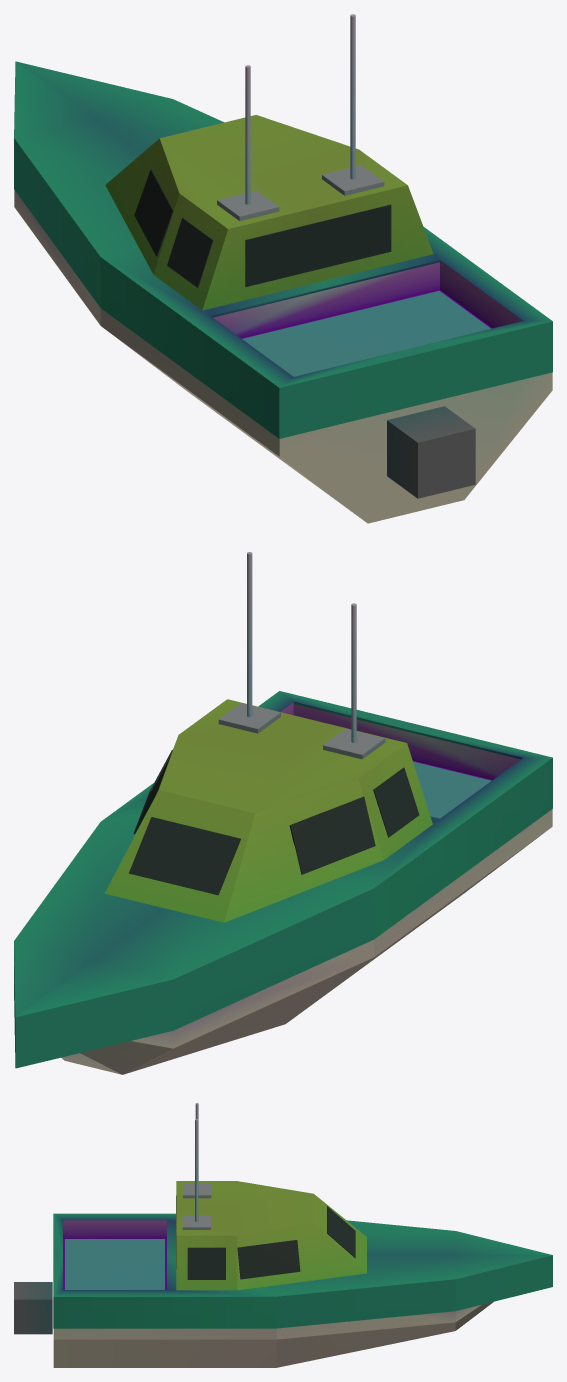
The picture shows the model from 3 angles, top to bottom: view 1: azimuth 30°, elevation 25°; view 2: azimuth 150°, elevation 25°; view 3: azimuth 270°, elevation 25°; orthographic projection. The views are drawn at different scales.
Visible parts, largest first — view 1: hull_panel.001, cabin, hull_panel, well_floor, aft_window, stern_block, side_window.001, forward_window.001, base, base.001, rod.001, rod; view 2: hull_panel.001, cabin, hull_panel, windshield, forward_window.001, well_floor, side_window.001, base, base.001, rod.001, rod; view 3: hull_panel.001, hull_panel, cabin, well_floor, stern_block, forward_window, side_window, windshield, base.001, base, rod.001.
Part boxes in pixels (<box>): hull_panel.001: <box>14,61,552,438</box>; cabin: <box>105,115,433,310</box>; hull_panel: <box>14,190,552,523</box>; well_floor: <box>242,291,490,376</box>; aft_window: <box>245,204,391,286</box>; stern_block: <box>387,406,475,498</box>; side_window.001: <box>167,218,213,287</box>; forward_window.001: <box>134,169,173,256</box>; base: <box>217,190,279,220</box>; base.001: <box>322,165,384,195</box>; rod.001: <box>350,14,355,179</box>; rod: <box>245,65,250,204</box>; hull_panel.001: <box>14,691,552,1068</box>; cabin: <box>104,699,432,922</box>; hull_panel: <box>61,702,552,1074</box>; windshield: <box>129,817,240,895</box>; forward_window.001: <box>289,796,375,874</box>; well_floor: <box>413,761,491,818</box>; side_window.001: <box>373,767,419,837</box>; base: <box>323,728,385,759</box>; base.001: <box>218,703,280,733</box>; rod.001: <box>247,552,252,716</box>; rod: <box>351,603,356,742</box>; hull_panel.001: <box>53,1213,552,1328</box>; hull_panel: <box>53,1220,493,1367</box>; cabin: <box>176,1181,366,1290</box>; well_floor: <box>65,1239,164,1289</box>; stern_block: <box>14,1282,52,1334</box>; forward_window: <box>237,1240,300,1279</box>; side_window: <box>187,1247,225,1279</box>; windshield: <box>327,1206,355,1258</box>; base.001: <box>182,1215,210,1229</box>; base: <box>183,1183,211,1198</box>; rod.001: <box>195,1119,198,1221</box>.
Bounding box in the file's own units: 3.3 × 4.61 × 9.04.
